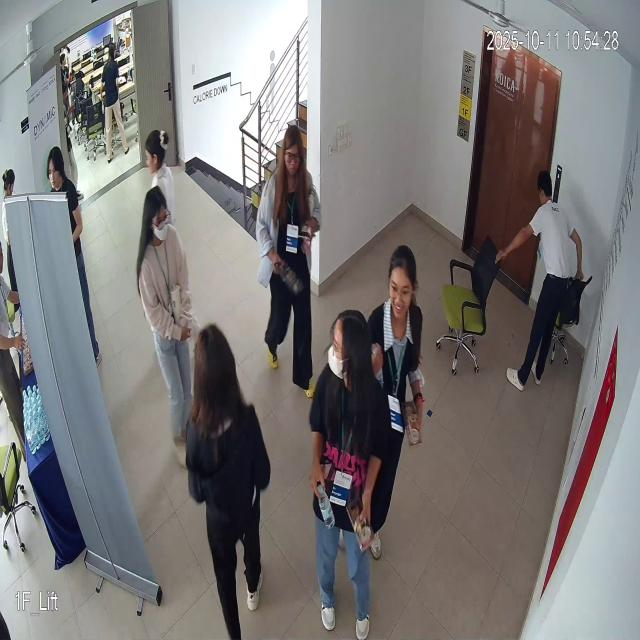face: (386, 236, 418, 323), (142, 183, 171, 245), (278, 120, 306, 180)
